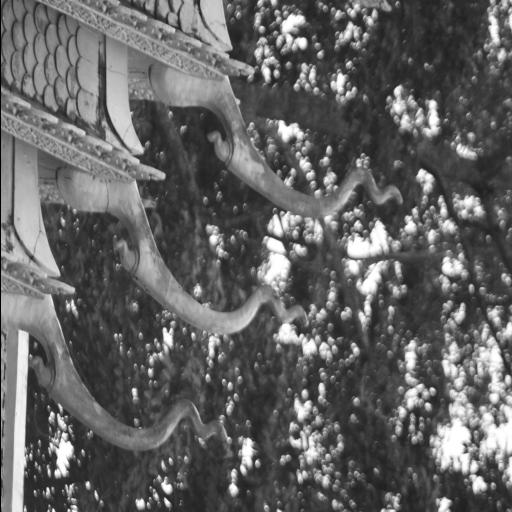ran: (144, 40, 410, 220), (56, 168, 310, 334), (22, 299, 226, 449)
